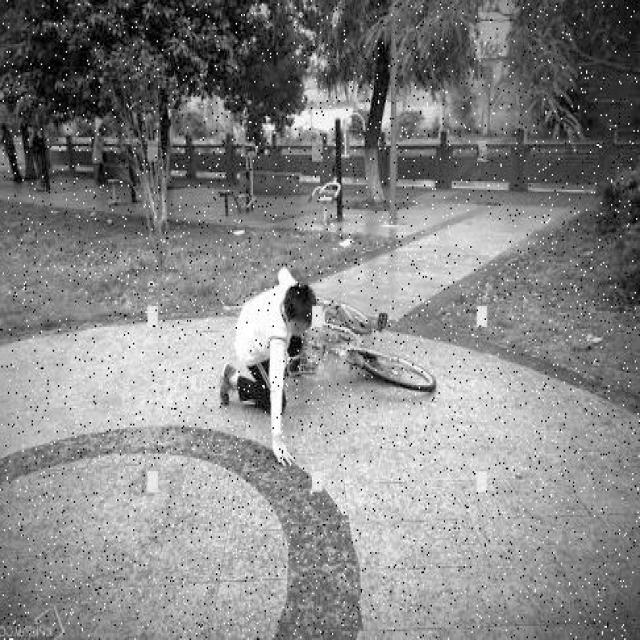fall: (219, 262, 324, 448)
